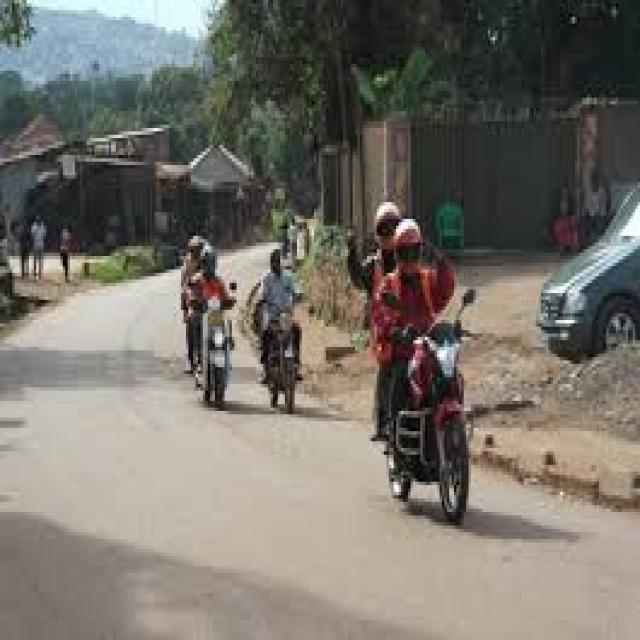bodaboda: (349, 283, 508, 527), (157, 266, 241, 423), (252, 281, 328, 443)
